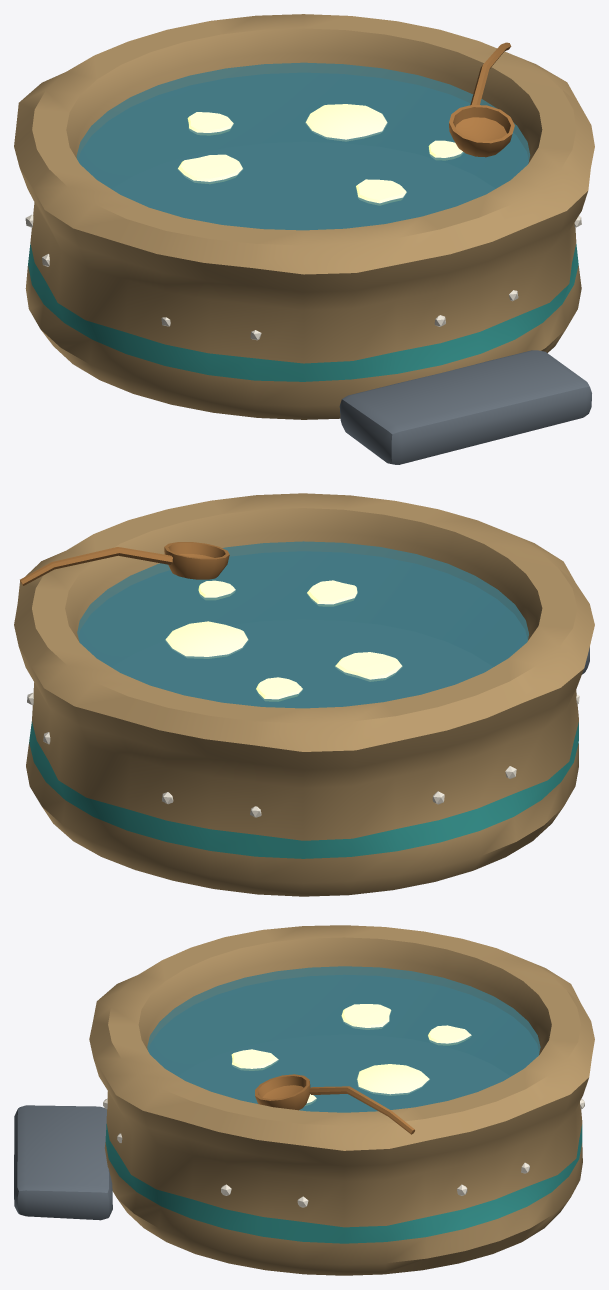
File: deco_water_basin_carved.fbx
The picture shows the model from 3 angles, top to bottom: view 1: azimuth 30°, elevation 25°; view 2: azimuth 150°, elevation 25°; view 3: azimuth 270°, elevation 25°; orthographic projection. The views are drawn at different scales.
Parts seen in each view (by area): view 1: WaterBasin_Carved_Basin, WaterBasin_Carved_Water, WaterBasin_Carved_Step, WaterBasin_Carved_Algae, WaterBasin_Carved_Ladle; view 2: WaterBasin_Carved_Basin, WaterBasin_Carved_Water, WaterBasin_Carved_Algae, WaterBasin_Carved_Ladle; view 3: WaterBasin_Carved_Basin, WaterBasin_Carved_Water, WaterBasin_Carved_Step, WaterBasin_Carved_Algae, WaterBasin_Carved_Ladle.
Boxes of the visible parts, x1,y1,x2,y2 form: WaterBasin_Carved_Basin: (14,14,594,419); WaterBasin_Carved_Water: (76,62,530,230); WaterBasin_Carved_Step: (339,350,591,464); WaterBasin_Carved_Algae: (178,104,463,204); WaterBasin_Carved_Ladle: (449,42,514,157); WaterBasin_Carved_Basin: (14,493,594,896); WaterBasin_Carved_Water: (77,541,528,708); WaterBasin_Carved_Algae: (165,580,402,701); WaterBasin_Carved_Ladle: (20,542,229,585); WaterBasin_Carved_Basin: (89,925,594,1275); WaterBasin_Carved_Water: (147,966,540,1112); WaterBasin_Carved_Step: (14,1105,112,1220); WaterBasin_Carved_Algae: (231,1004,471,1105); WaterBasin_Carved_Ladle: (255,1074,414,1134).
Bounding box in the file's own units: 227 × 82.25 × 252.
